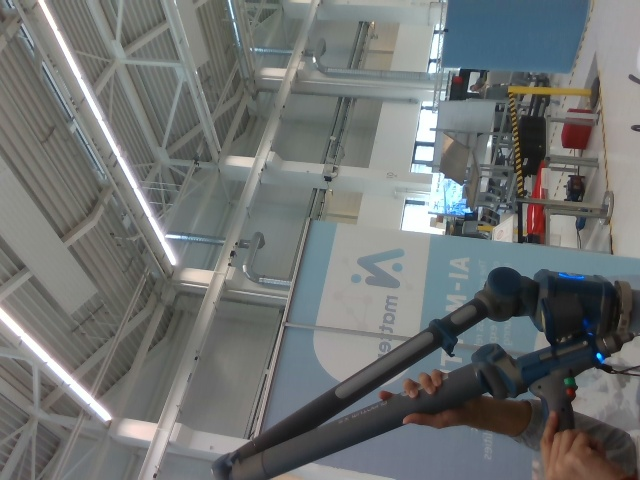Robot arm: (211, 267, 639, 480)
